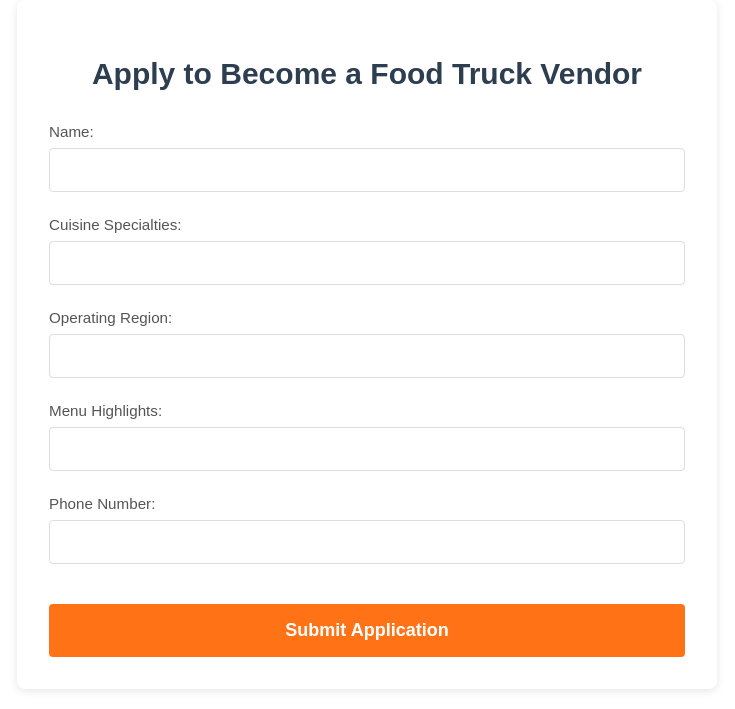
Test: submits_valid_application_form
// Fill in the form
In the field labelled "Name:": (367, 170) [49,148,685,192], type "Tasty Tacos"
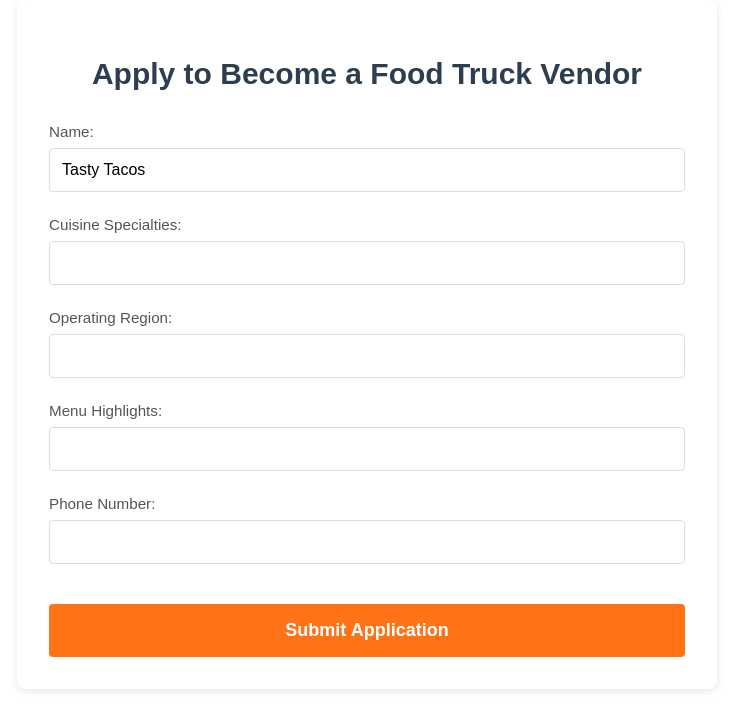
In the field labelled "Cuisine Specialties:": (367, 263) [49,241,685,285], type "Mexican"
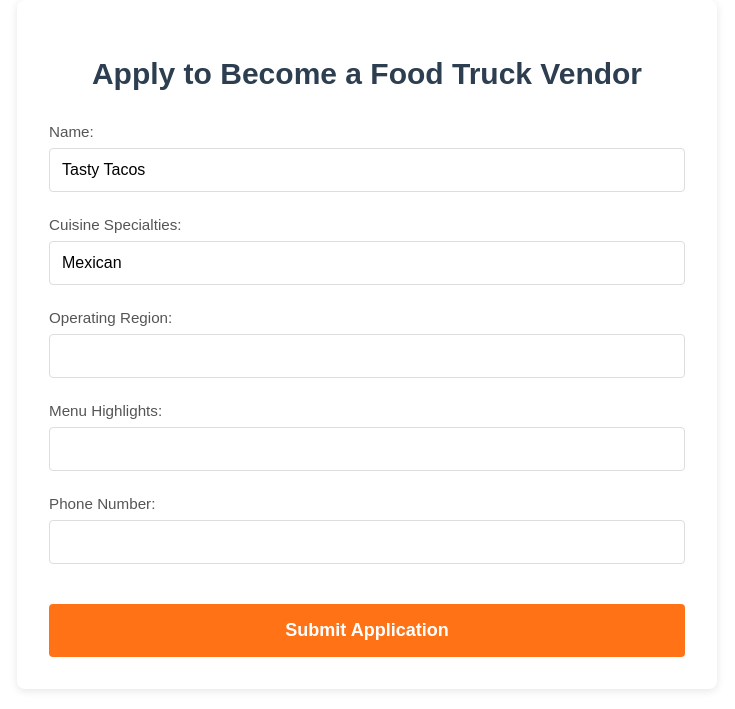
In the field labelled "Operating Region:": (367, 356) [49,334,685,378], type "Chennai"
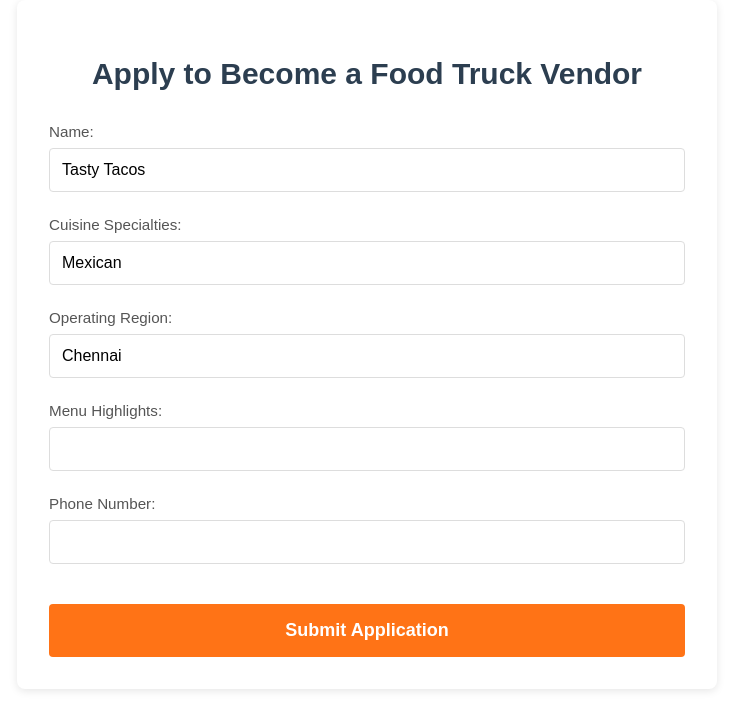
In the field labelled "Menu Highlights:": (367, 449) [49,427,685,471], type "Tacos, Burritos"
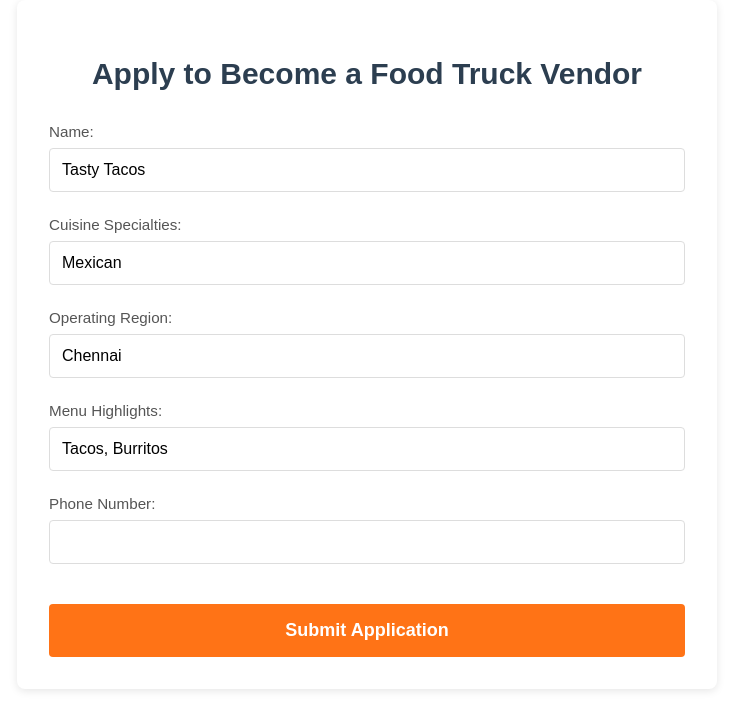
In the field labelled "Phone Number:": (367, 542) [49,520,685,564], type "1234567890"
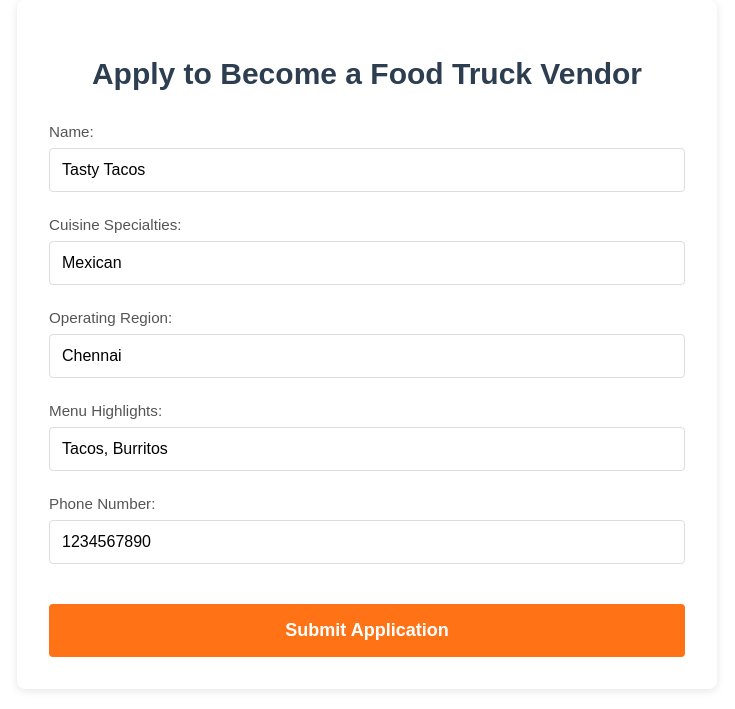
// Submit the form
Click the button "Submit Application": (367, 630) [49,604,685,657]
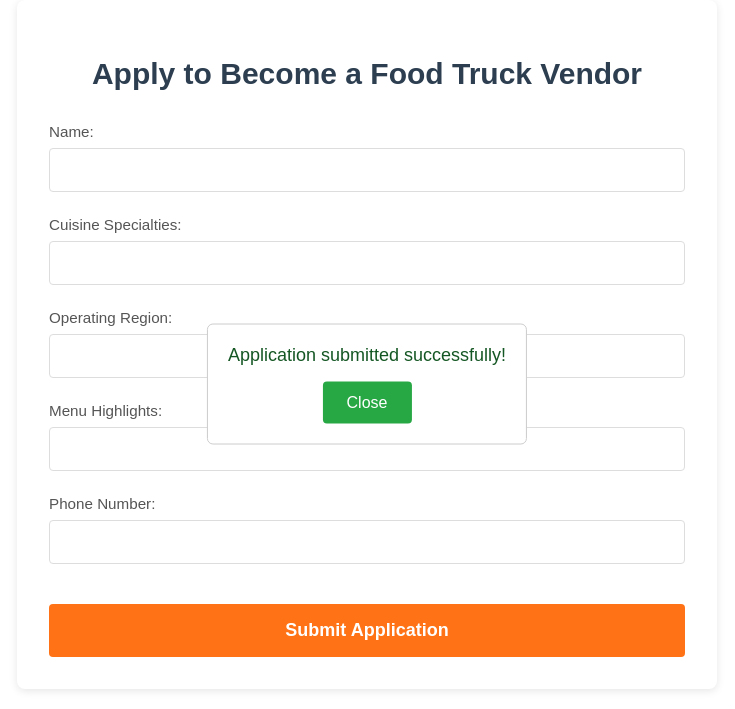
Expected: the text "Application submitted successfully!" is shown, [228,344,506,366]
